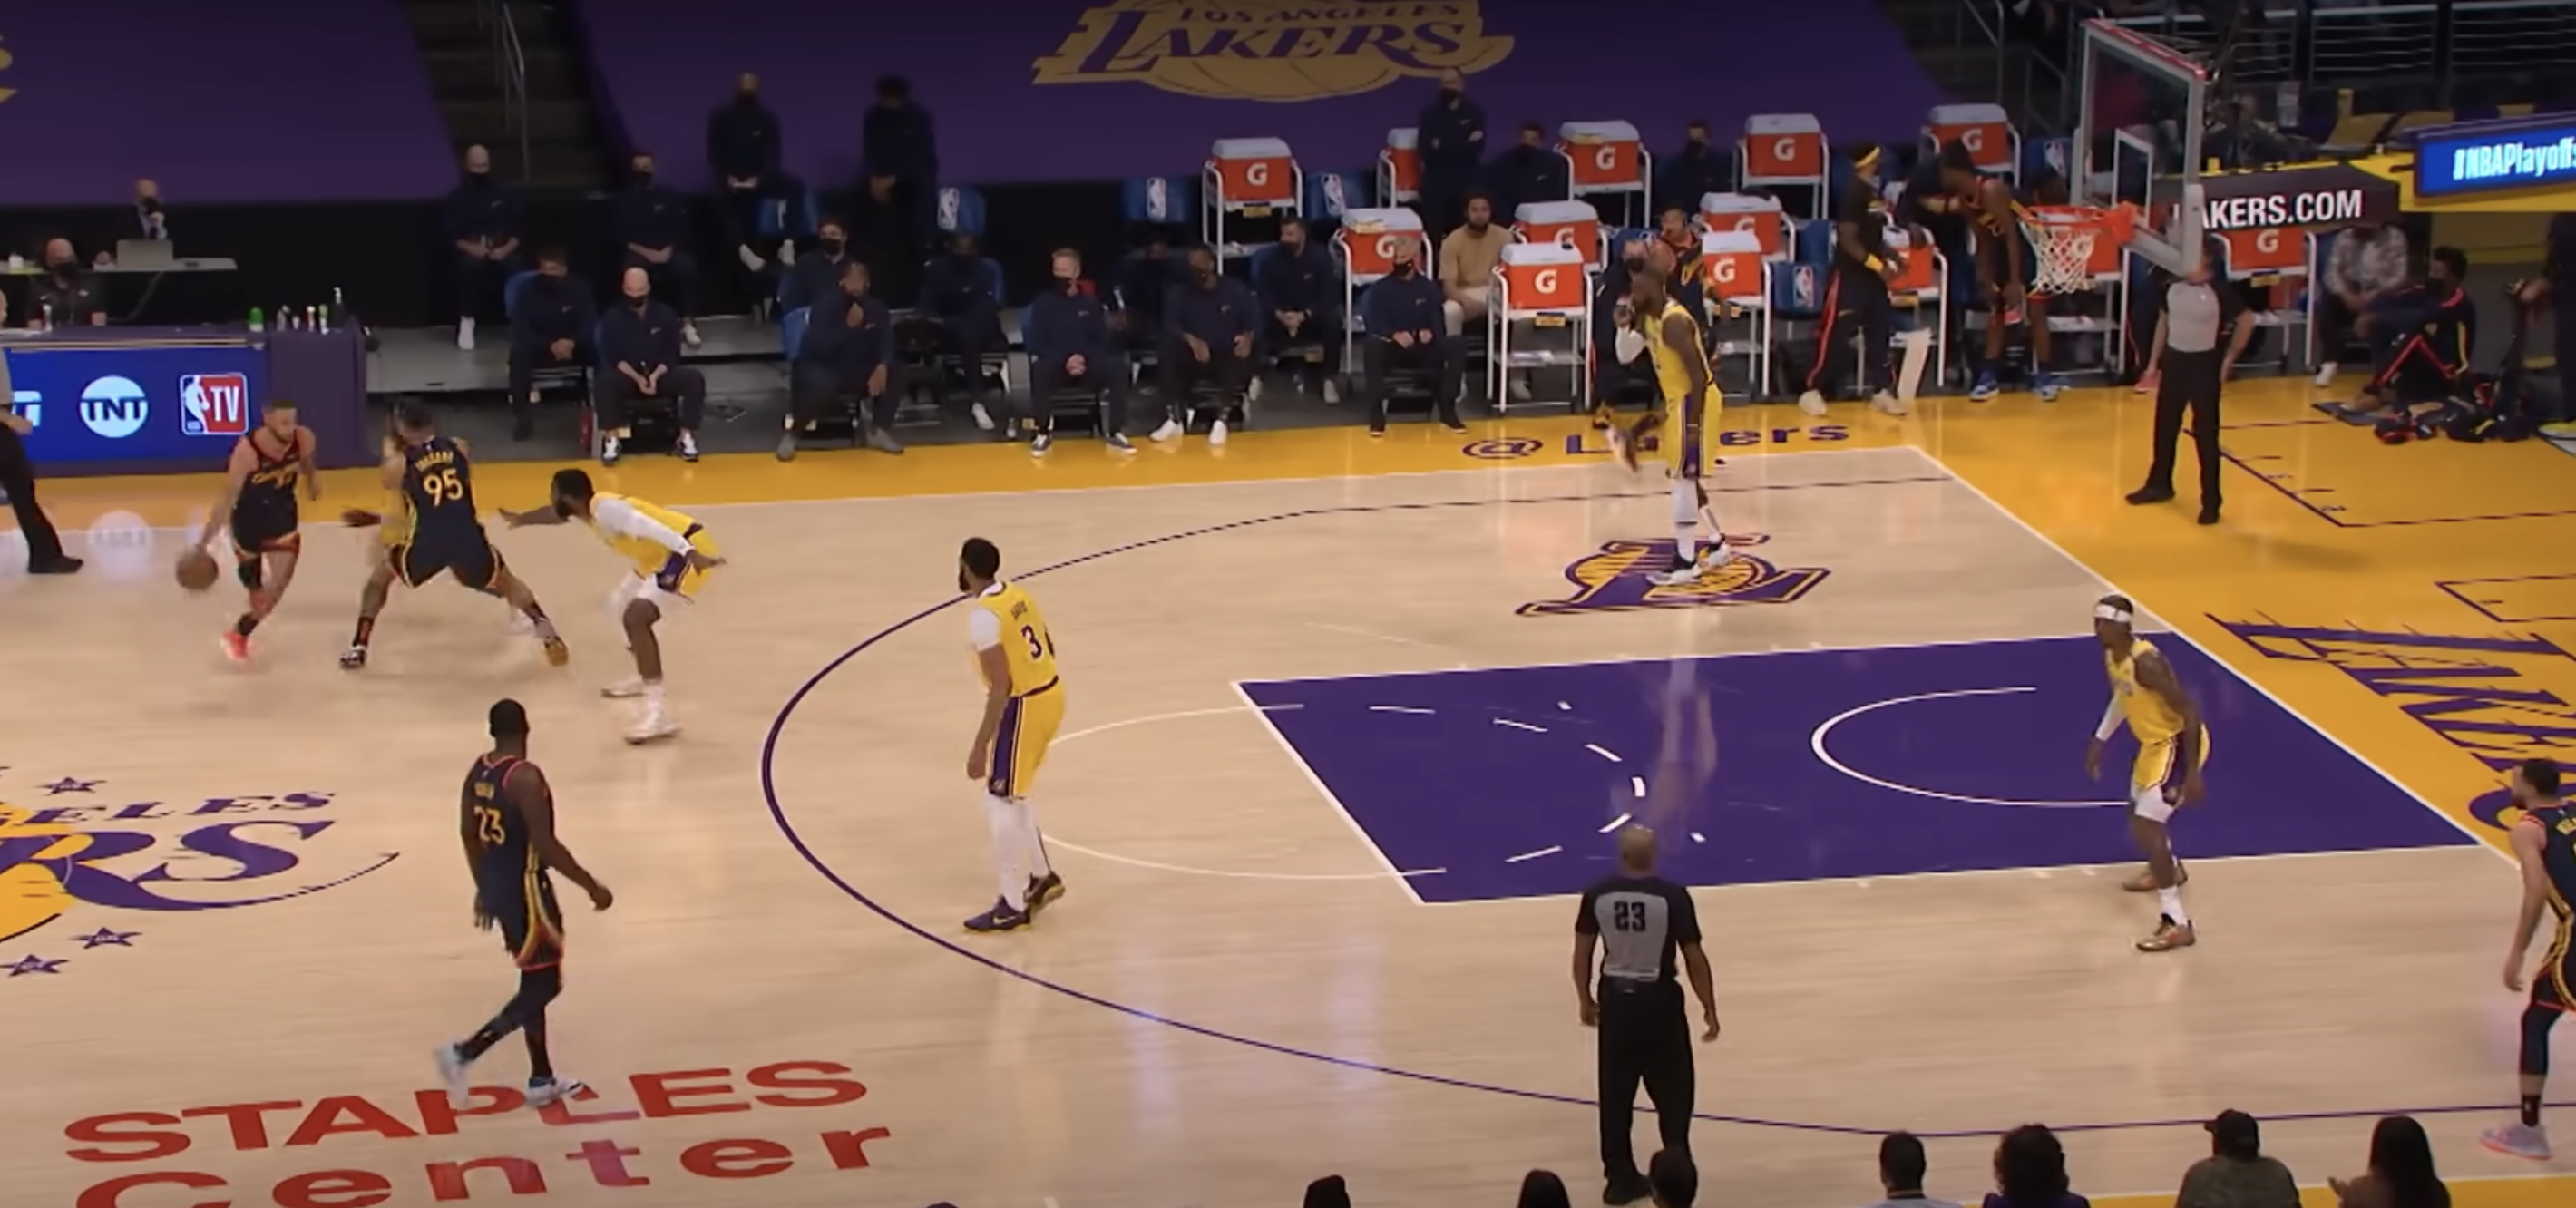key: (1066, 633, 2482, 907)
